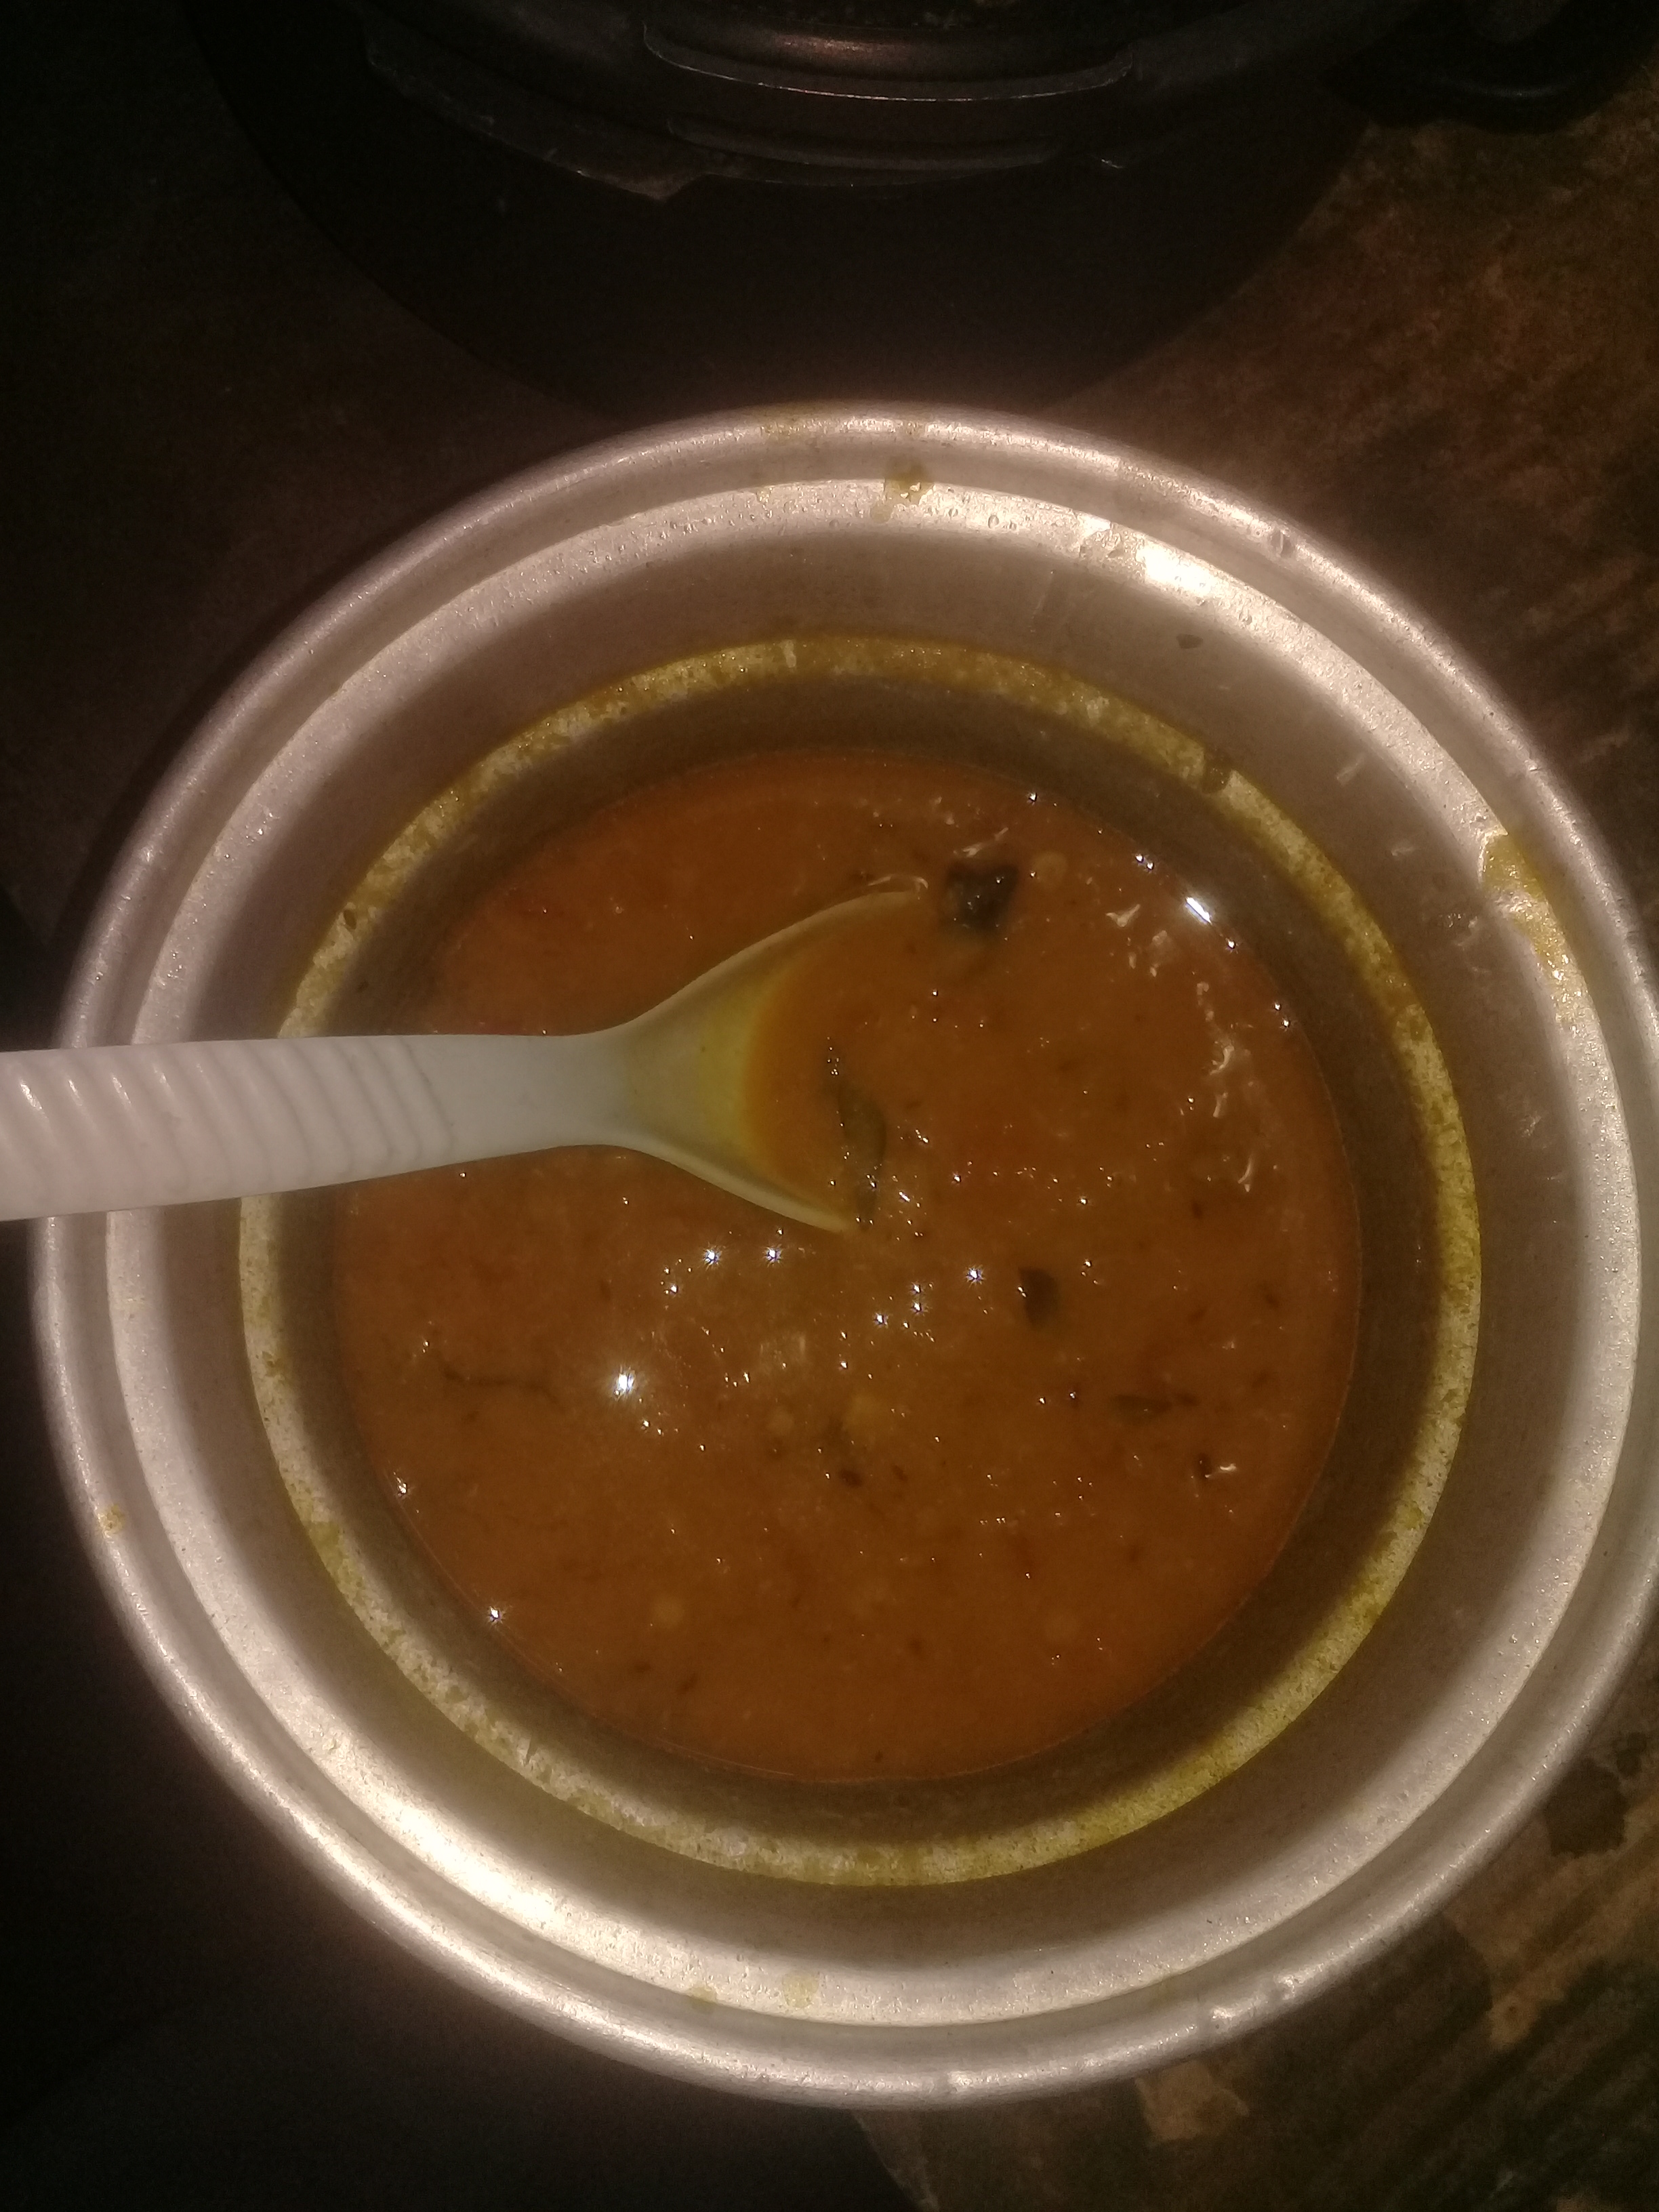food: (307, 718, 1377, 1804)
